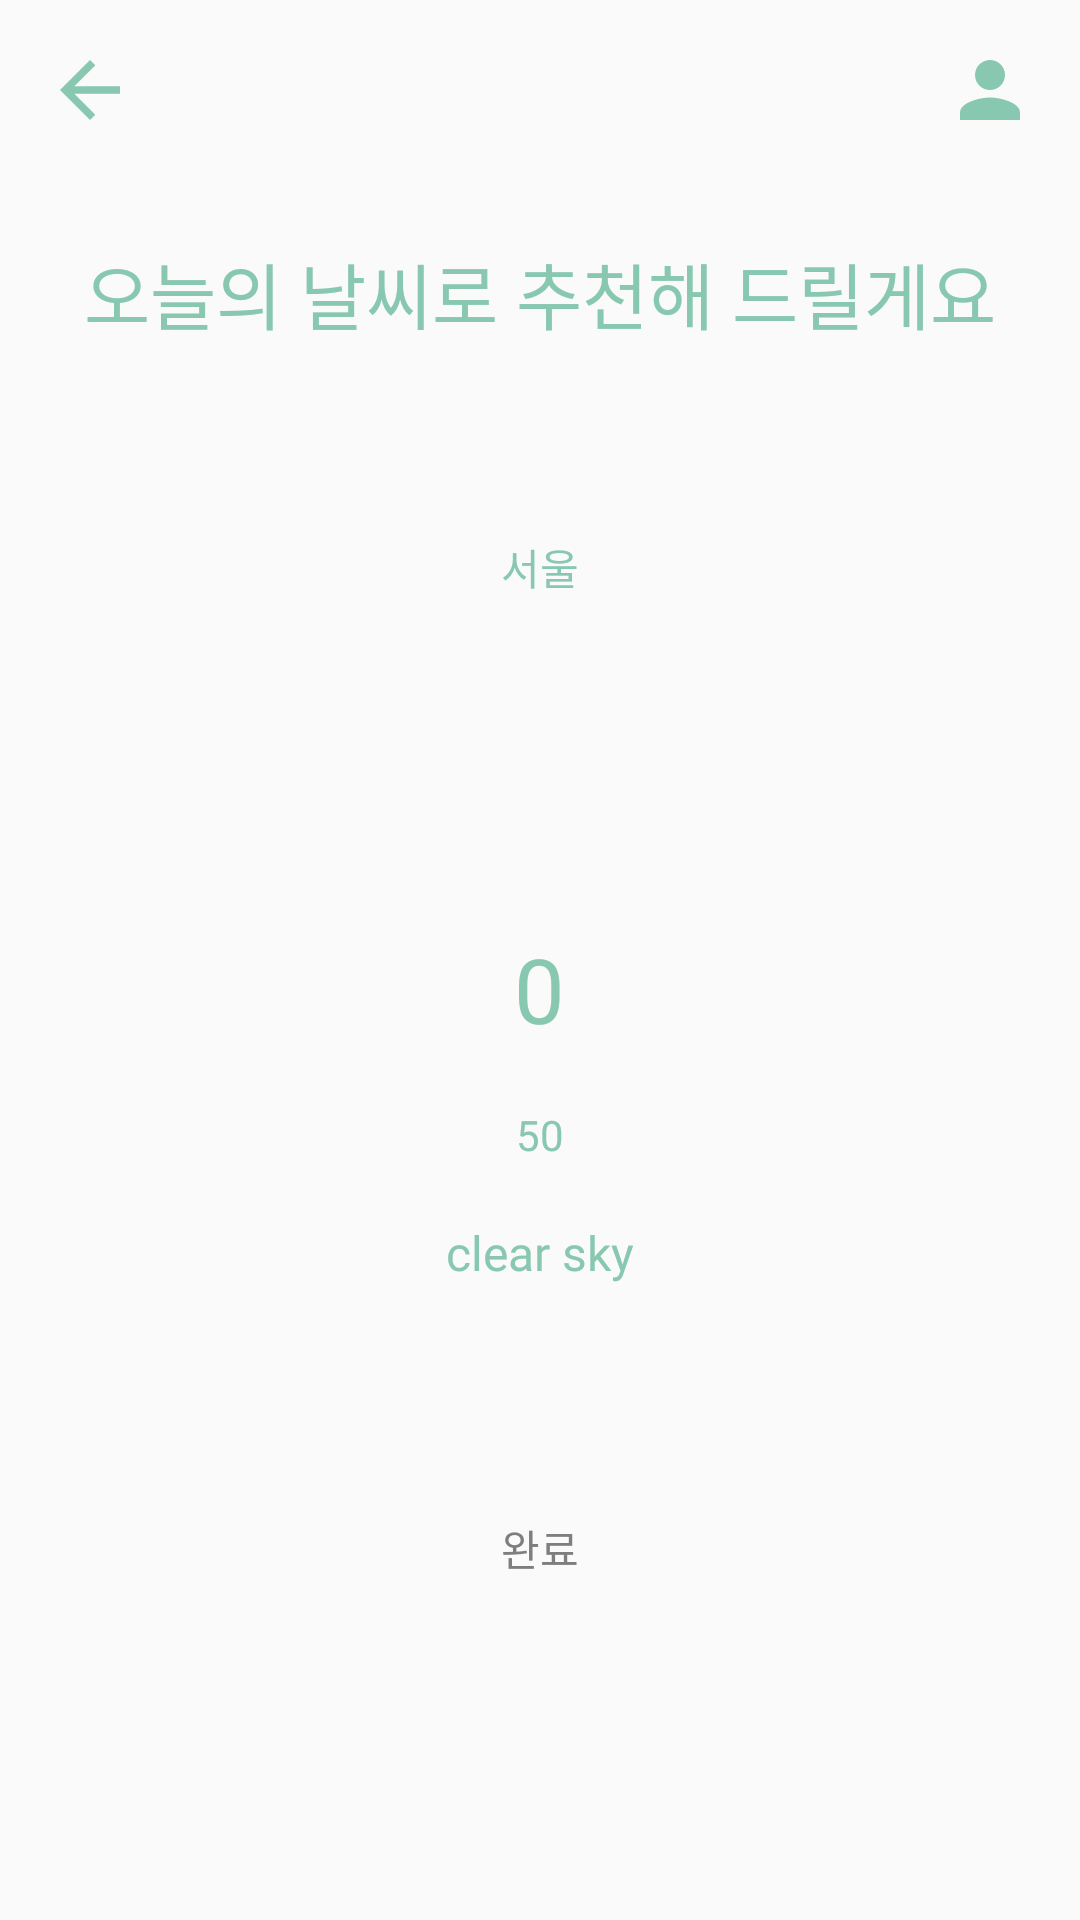

Point at icon controls on the screen. Image size 1080 x 1920, points as point (x, y).
arrow back: point (90, 90)
person: point (990, 90)
